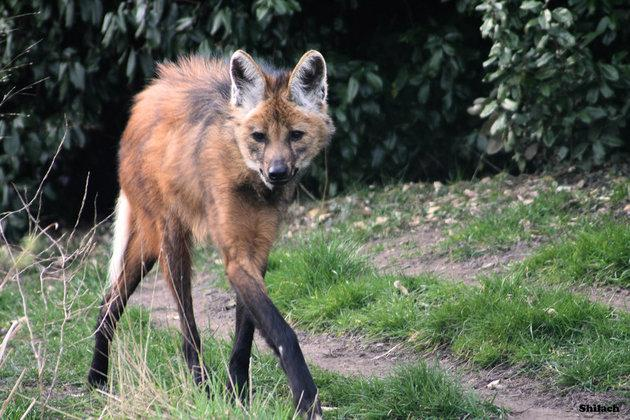LoboGuara: (74, 40, 341, 411)
